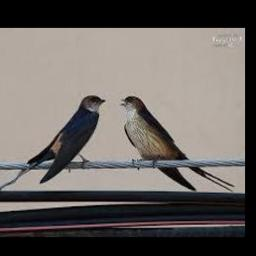Swallow: (120, 97, 236, 191), (0, 95, 106, 189)
